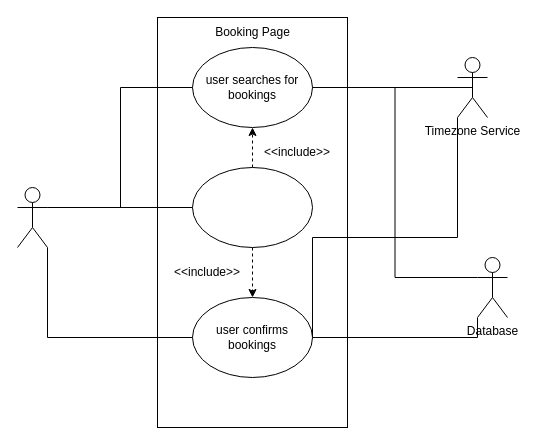
Some shapes in this 538 by 445 pixel diagram are drawn without their labels. The shapes that lost their labels are listed below. From the top down, each one's centre as x and y in pixels, then its label:
At (32,217): "User".
At (252,207): "user makes booking".
